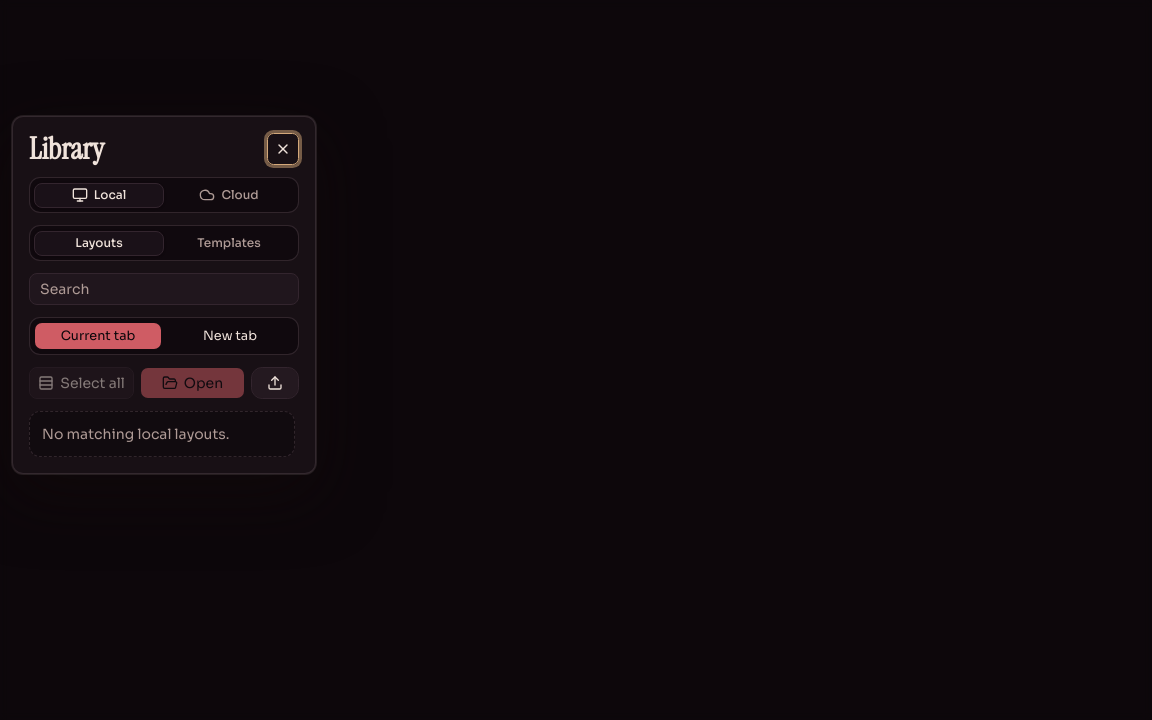
Test: cloud save UI › deselects all visible templates from the Templates bulk action
The width and height of the screenshot is (1152, 720).
Click the tab "Templates".
click(229, 243)  # box [164, 230, 294, 256]
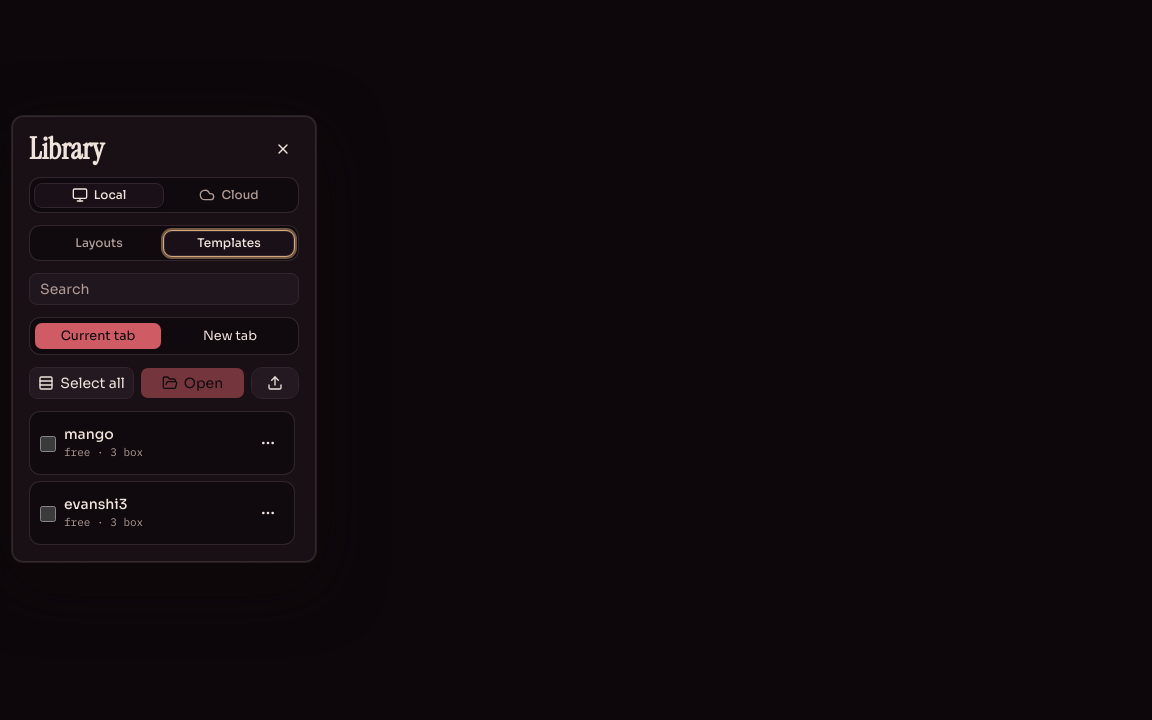
Click the button with aria-label "Select all templates".
click(82, 383)  # box [29, 367, 134, 399]
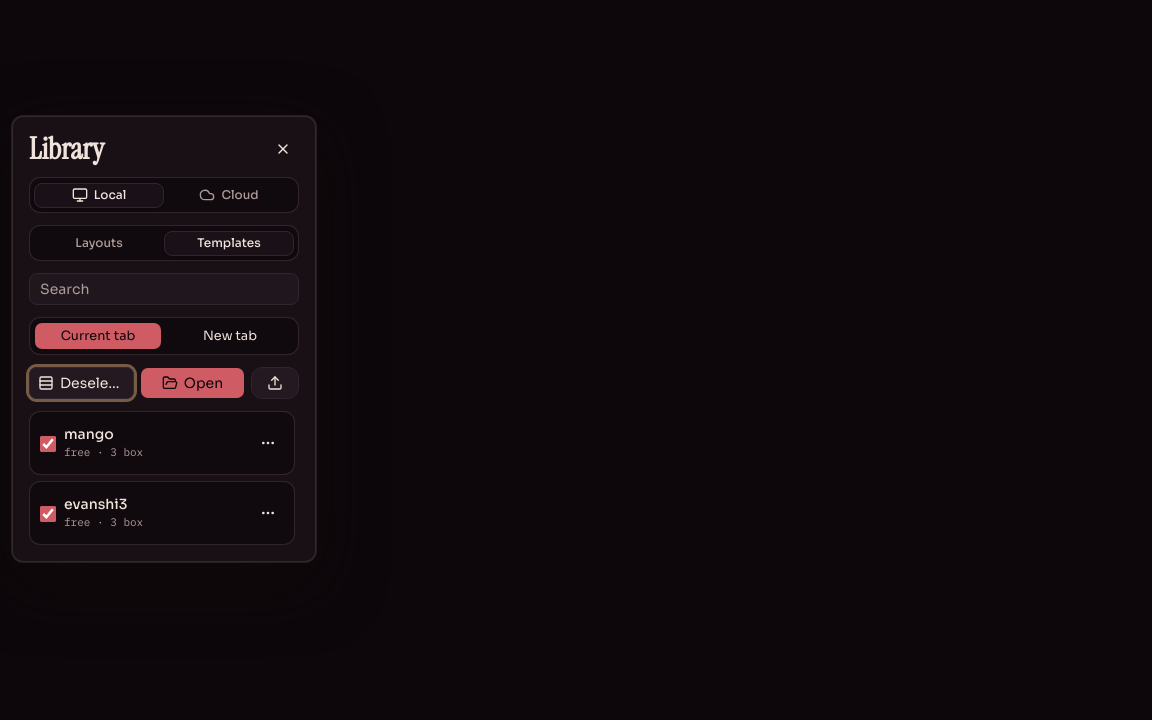
Expected: the checkbox named "Select mango" is checked, [40, 436, 56, 452]
Expected: the checkbox named "Select evanshi3" is checked, [40, 506, 56, 522]
Click the button with aria-label "Deselect all templates".
click(82, 383)  # box [29, 367, 134, 399]
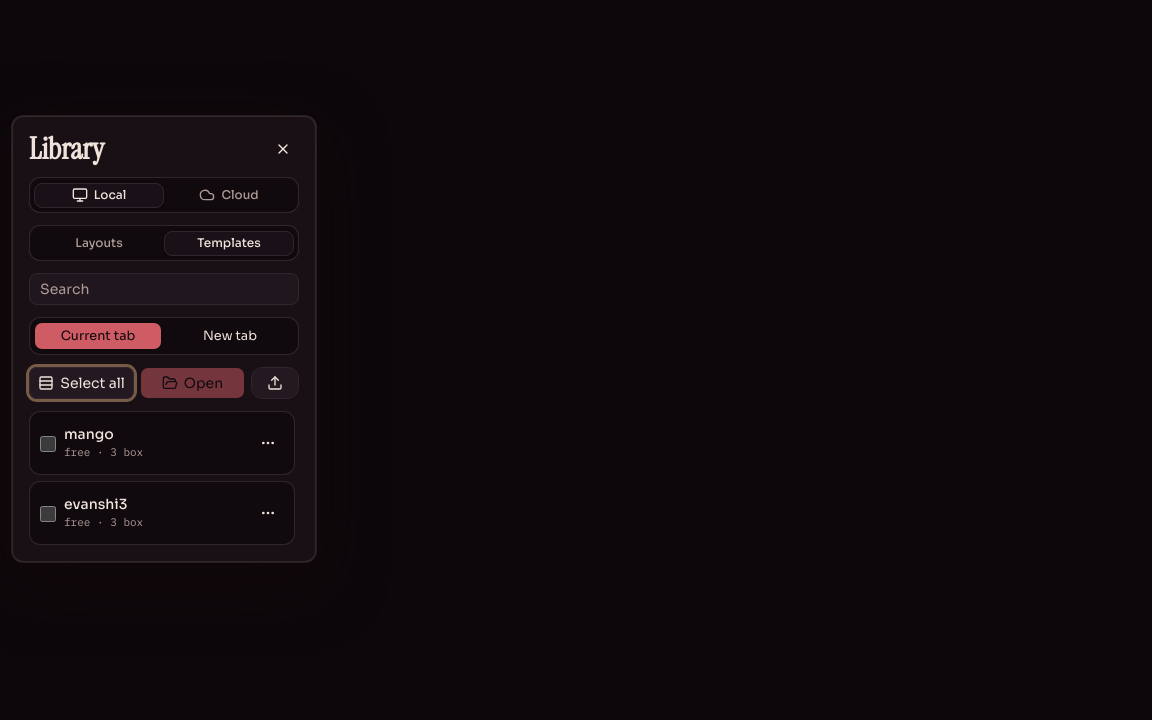
Expected: the checkbox named "Select mango" is not checked, [40, 436, 56, 452]
Expected: the checkbox named "Select evanshi3" is not checked, [40, 506, 56, 522]
